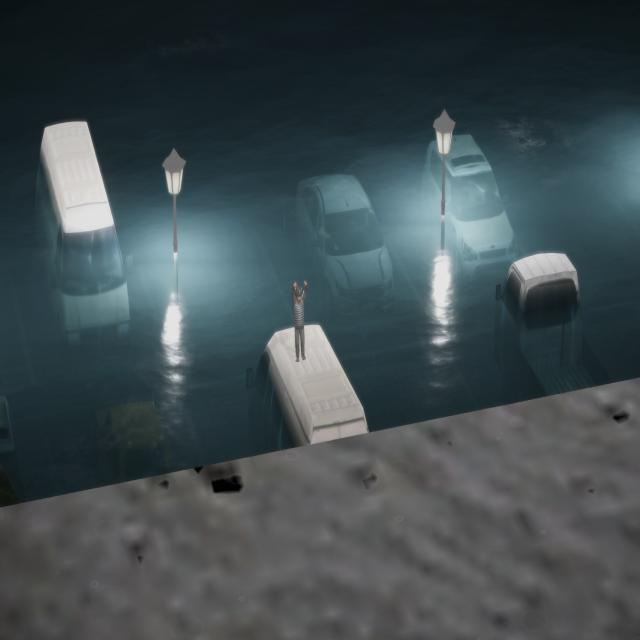Human: (287, 272, 310, 372)
